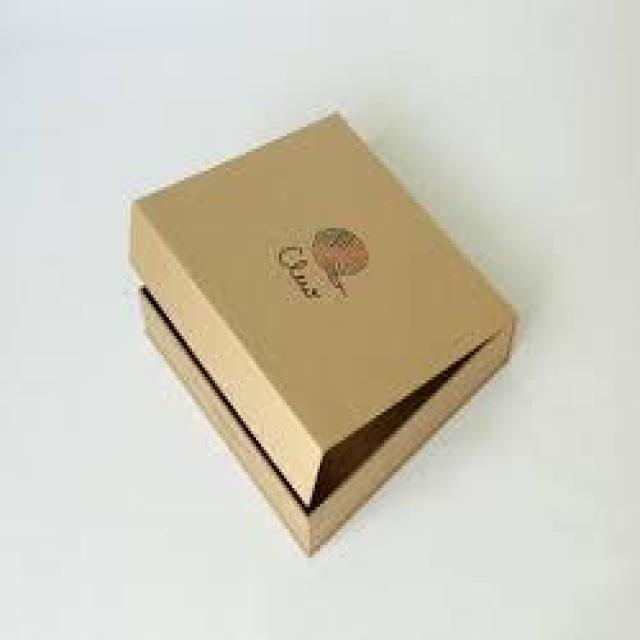box: (129, 113, 517, 557)
